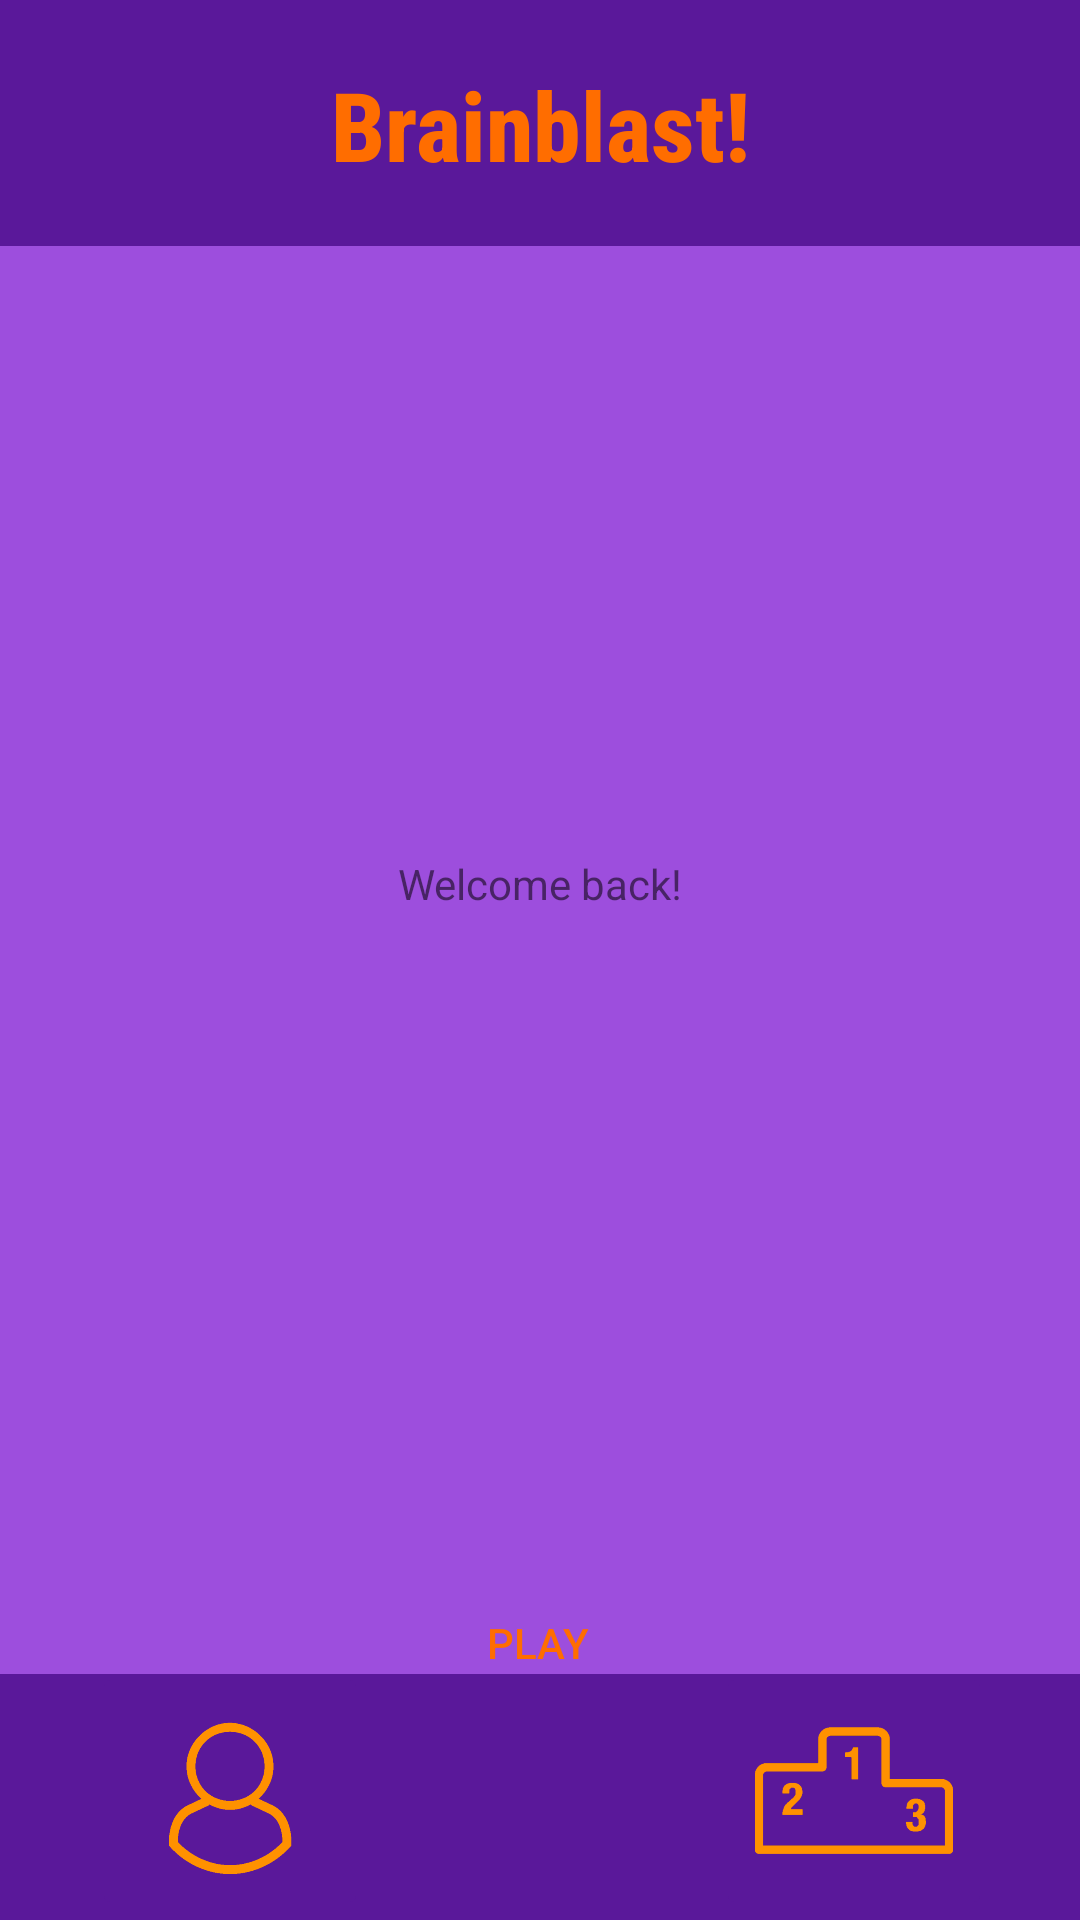

Named icons in this screenshot (1080px×1920px) and their centers, [x,y]:
Leaderboard redirect: [854,1790]
